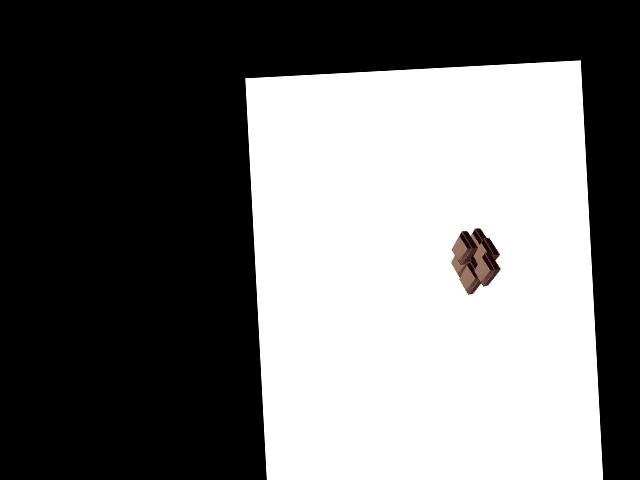chocolate: (447, 225, 499, 294)
